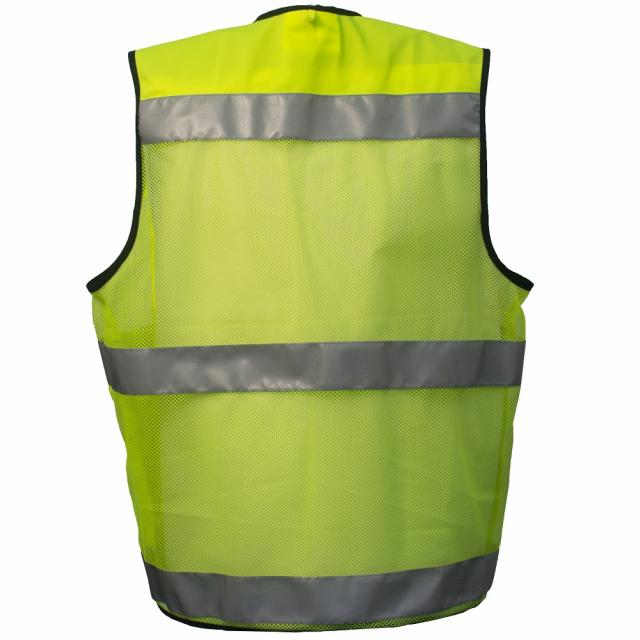Reflective-Jacket: (59, 0, 566, 640)
